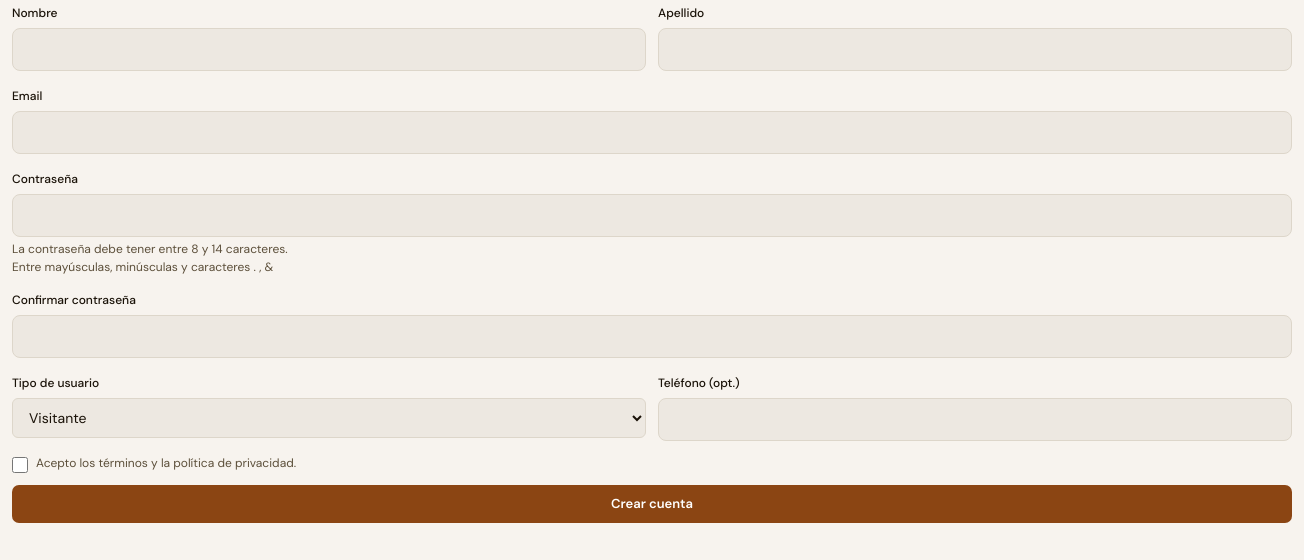
Test: RegisterForm › requires accepting terms before registering
The width and height of the screenshot is (1304, 560).
In the field labelled "Nombre": [329, 50] box [12, 28, 646, 71], type "Bea"
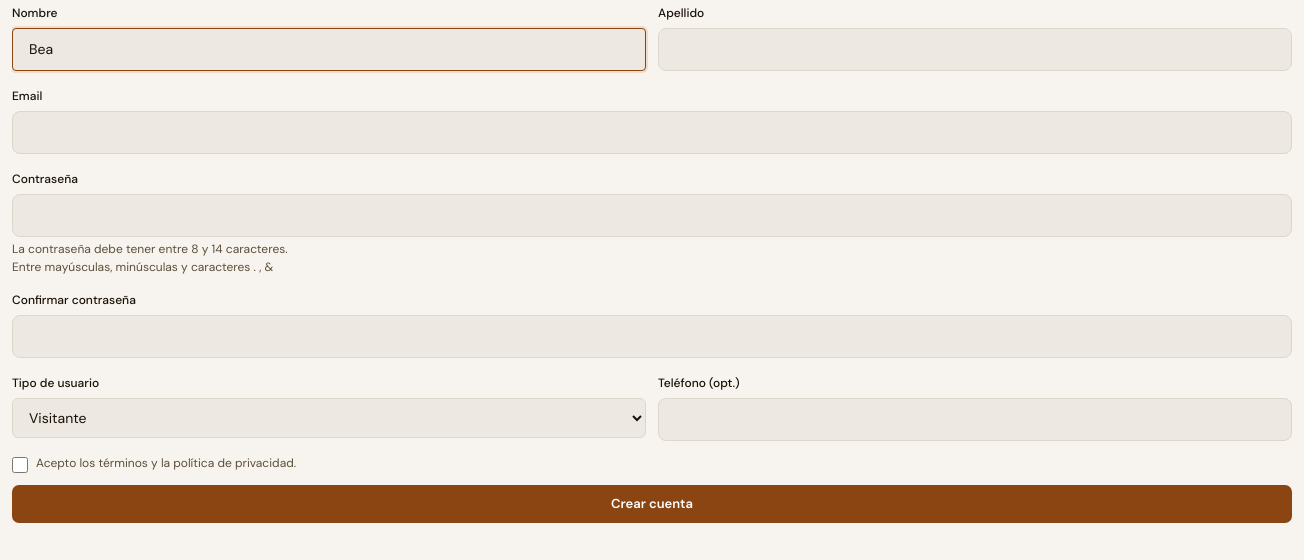
In the field labelled "Apellido": [975, 50] box [658, 28, 1292, 71], type "Rios"
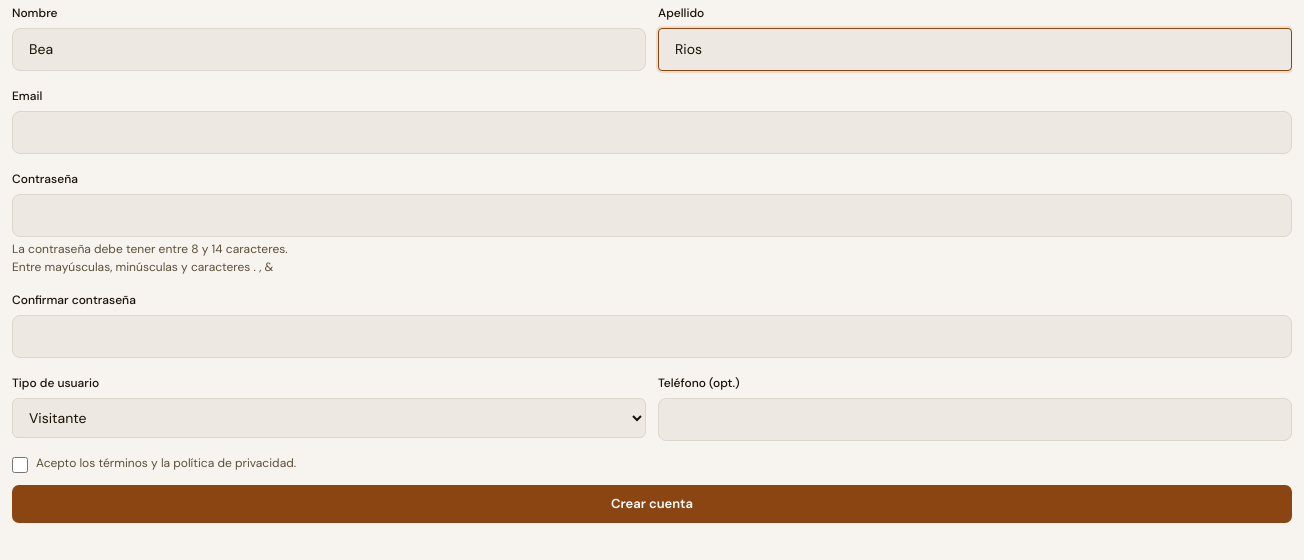
In the field labelled "Email": [652, 132] box [12, 111, 1292, 154], type "buyer@test.com"
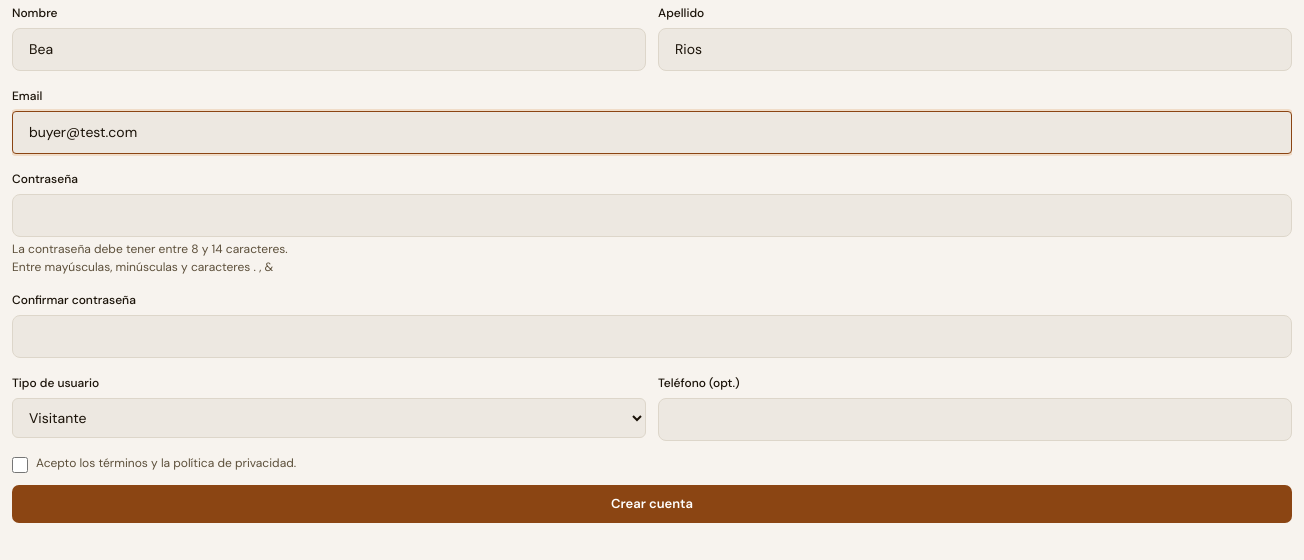
In the password field labelled "Contraseña": [652, 216] box [12, 194, 1292, 237], type "secret1234"
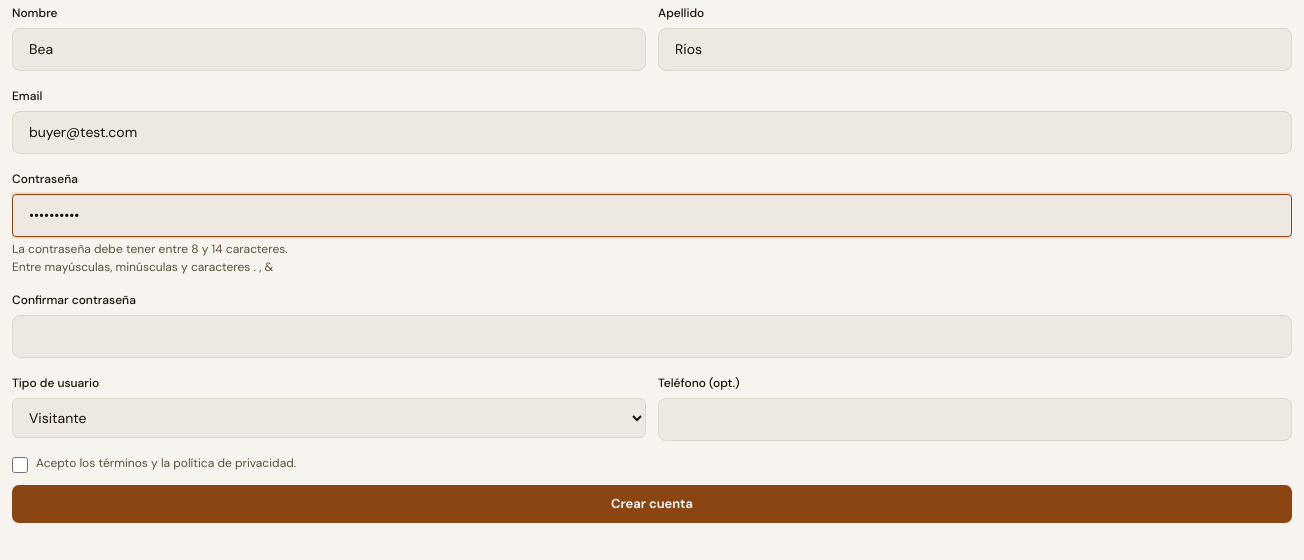
In the password field labelled "Confirmar contraseña": [652, 336] box [12, 315, 1292, 358], type "secret1234"
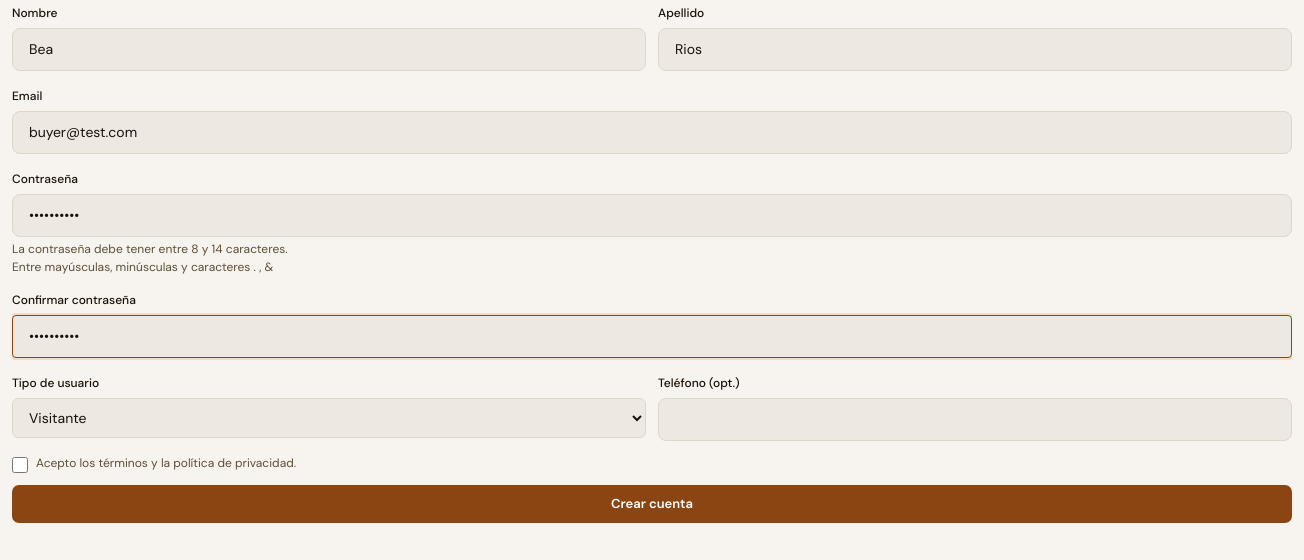
Click the button "Crear cuenta": [652, 504] box [12, 485, 1292, 522]
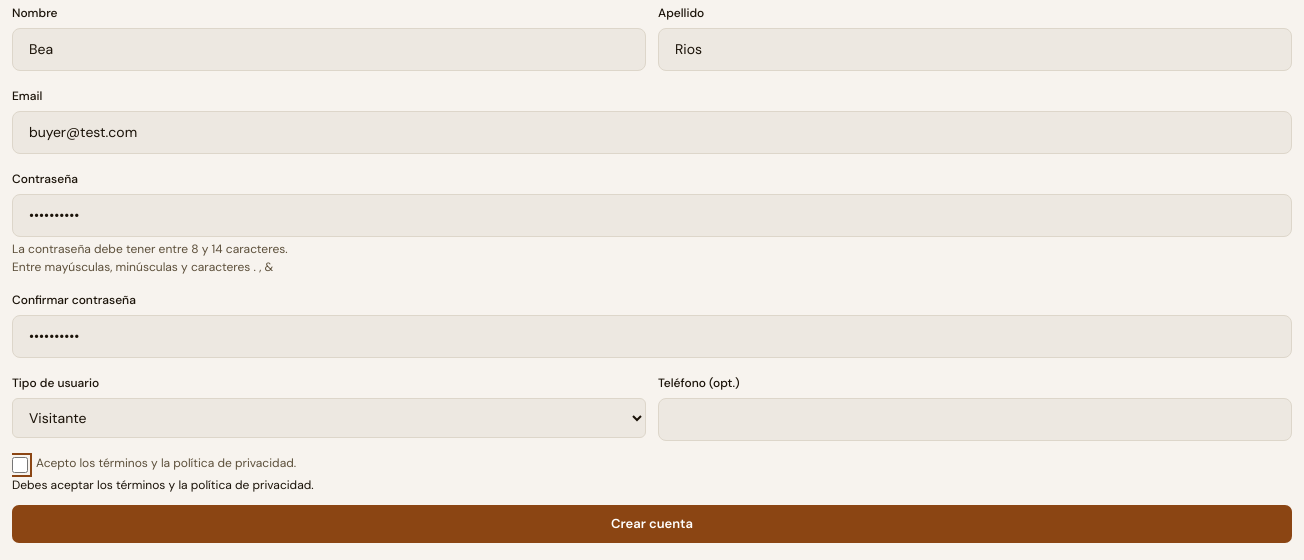
Expected: the text "Debes aceptar los términos y la política de privacidad." is shown, [12, 477, 314, 493]
